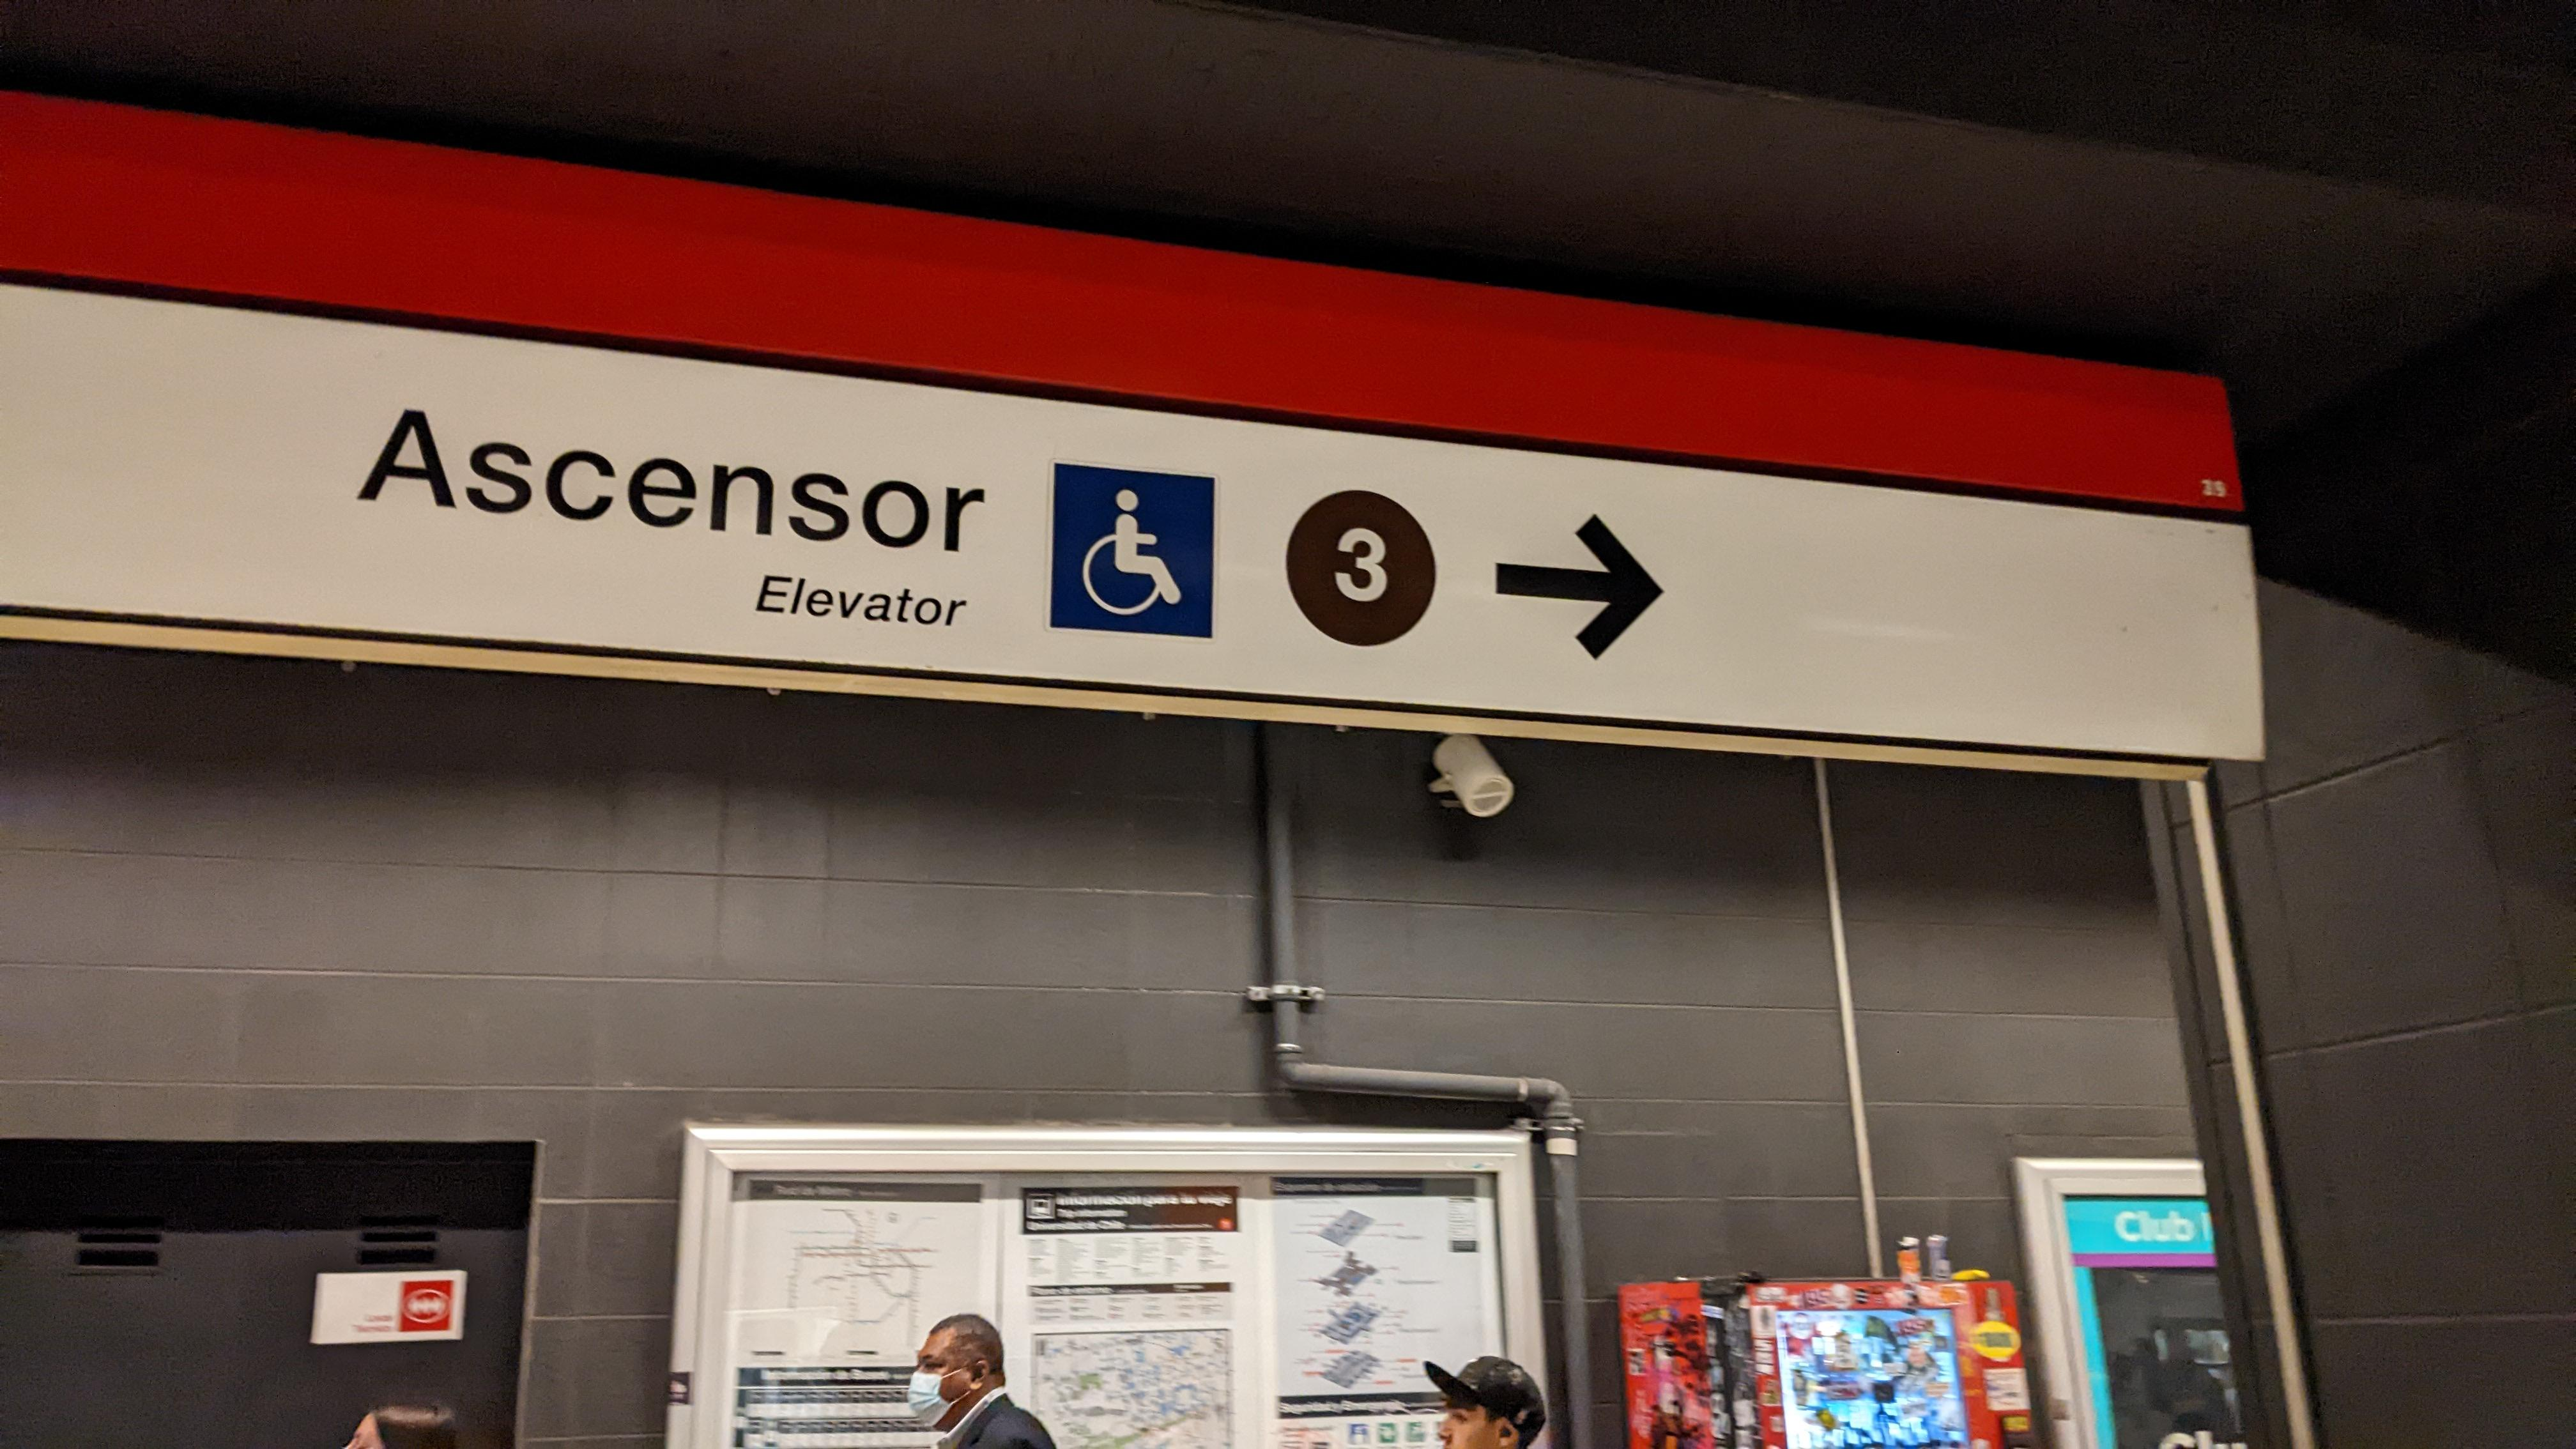handicapped symbol: (1077, 485, 1185, 619)
right arrow: (1486, 508, 1670, 667)
